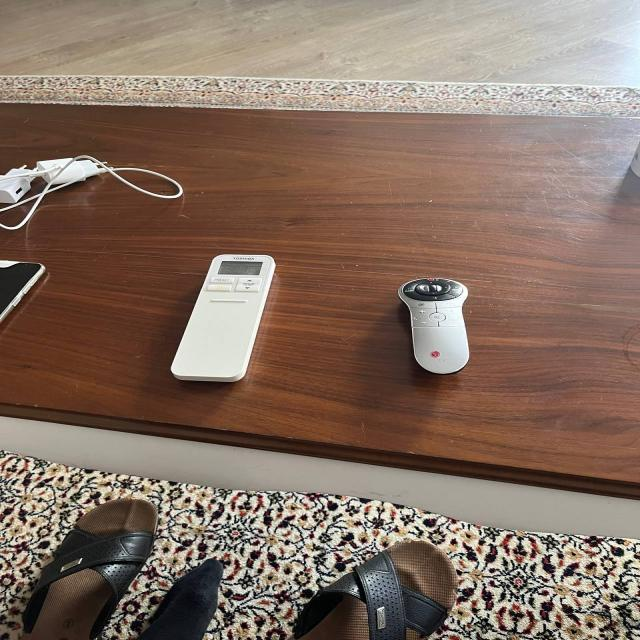remote: (161, 243, 285, 395), (385, 268, 496, 386)
